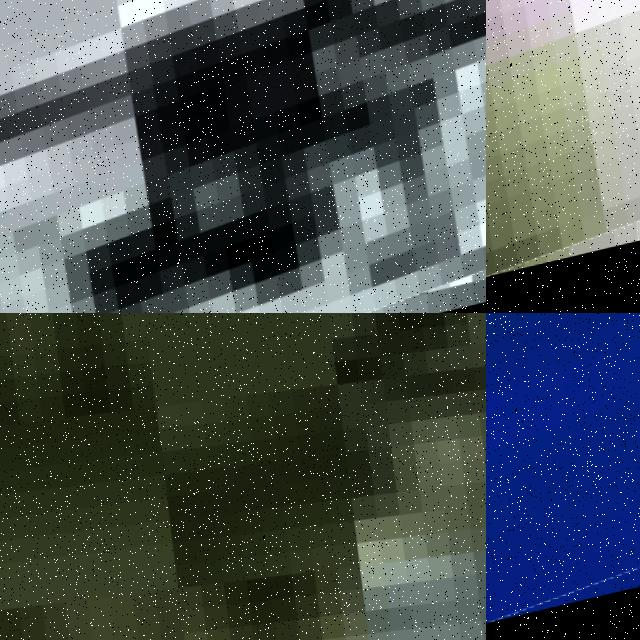drone: (0, 0, 486, 313), (486, 313, 640, 640), (486, 0, 640, 313)
